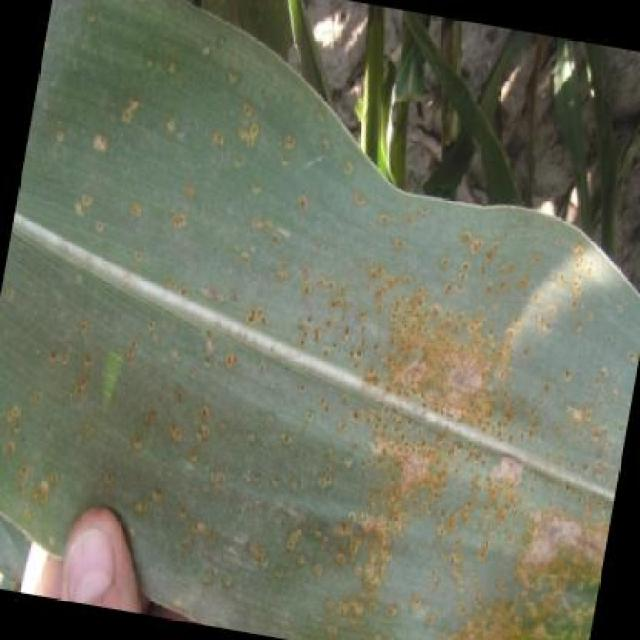Corn_Rust: (154, 112, 598, 594)
